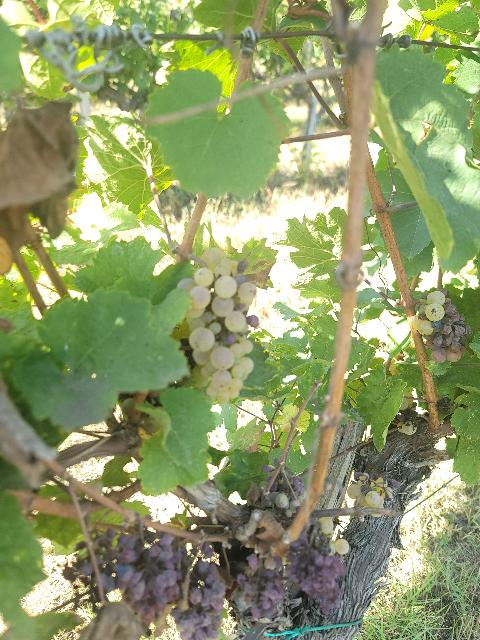grapes: (179, 248, 259, 404), (410, 290, 471, 362)
